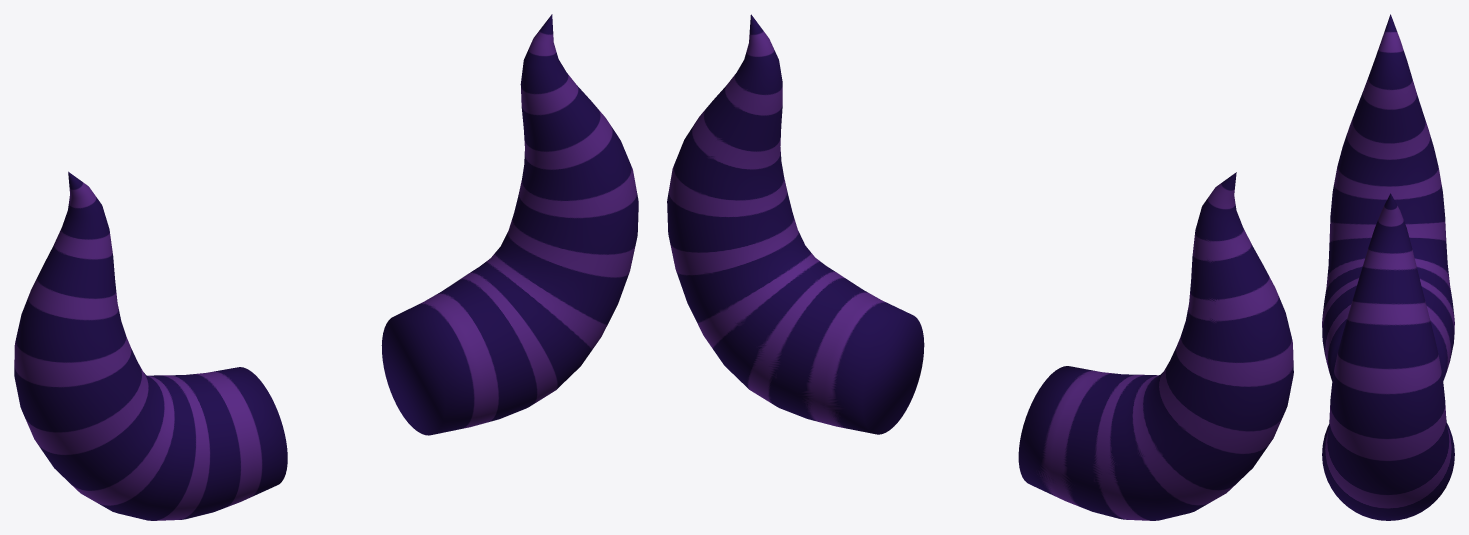
File: purple-horns.glb
The picture shows the model from 3 angles, left to right: view 1: azimuth 30°, elevation 25°; view 2: azimuth 150°, elevation 25°; view 3: azimuth 270°, elevation 25°; orthographic projection. The views are drawn at different scales.
Visible parts, largest first — view 1: NurbsPath.011; view 2: NurbsPath.011; view 3: NurbsPath.011.
Boxes of the visible parts, left/top/right/bottom form: NurbsPath.011: left=14, top=14, right=638, bottom=520; NurbsPath.011: left=667, top=14, right=1293, bottom=520; NurbsPath.011: left=1322, top=14, right=1454, bottom=520.
Size of the model in its own units: 3.39 by 2.16 by 0.7032.
1 material, 1 textured.
